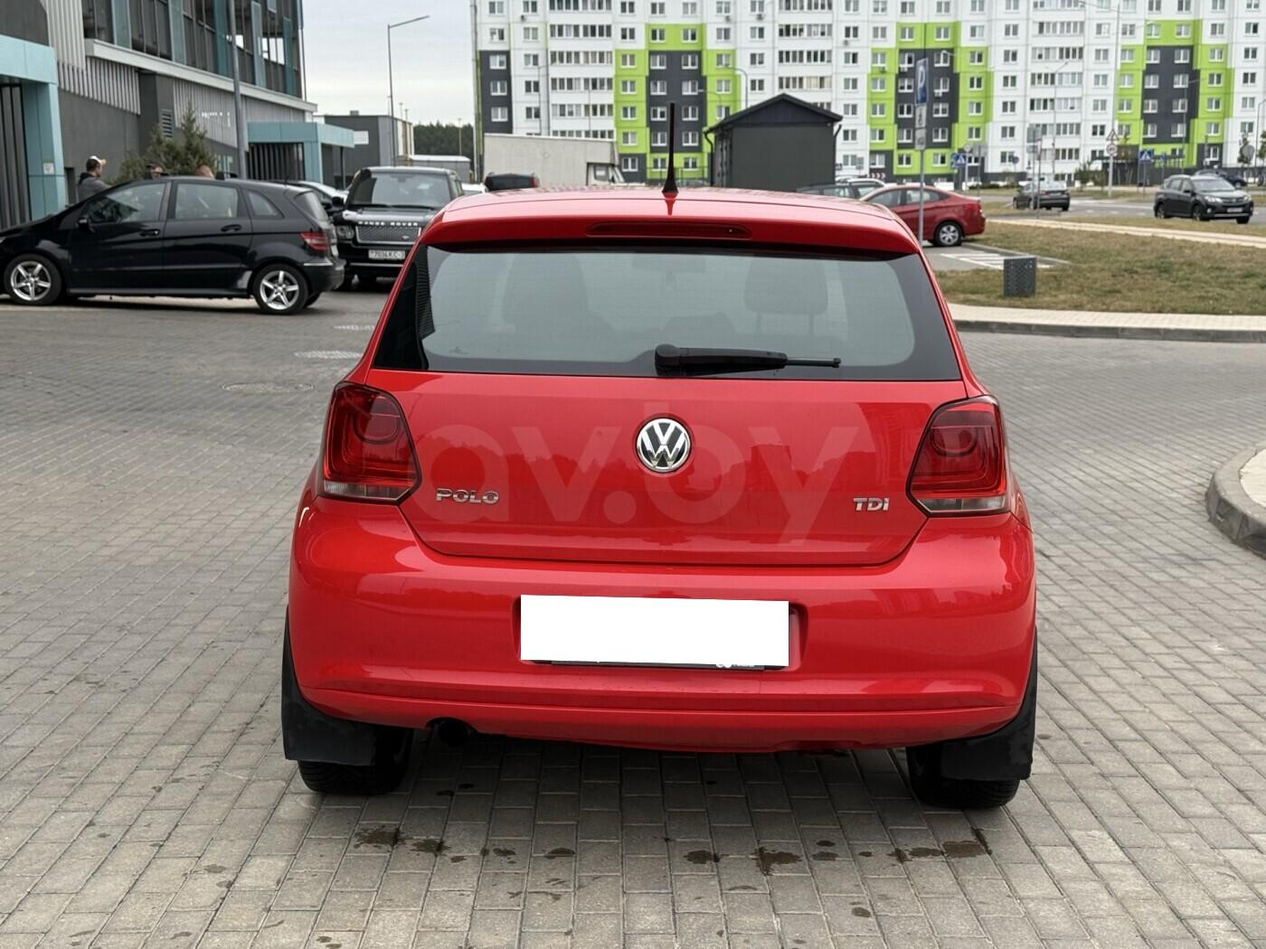Polo_2009-2015: (287, 182, 1046, 804)
